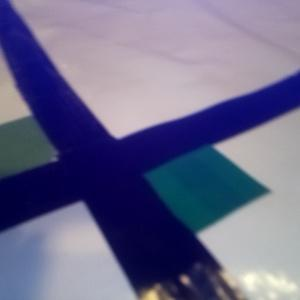bottom_left: (1, 116, 94, 201)
bottom_right: (101, 141, 269, 232)
